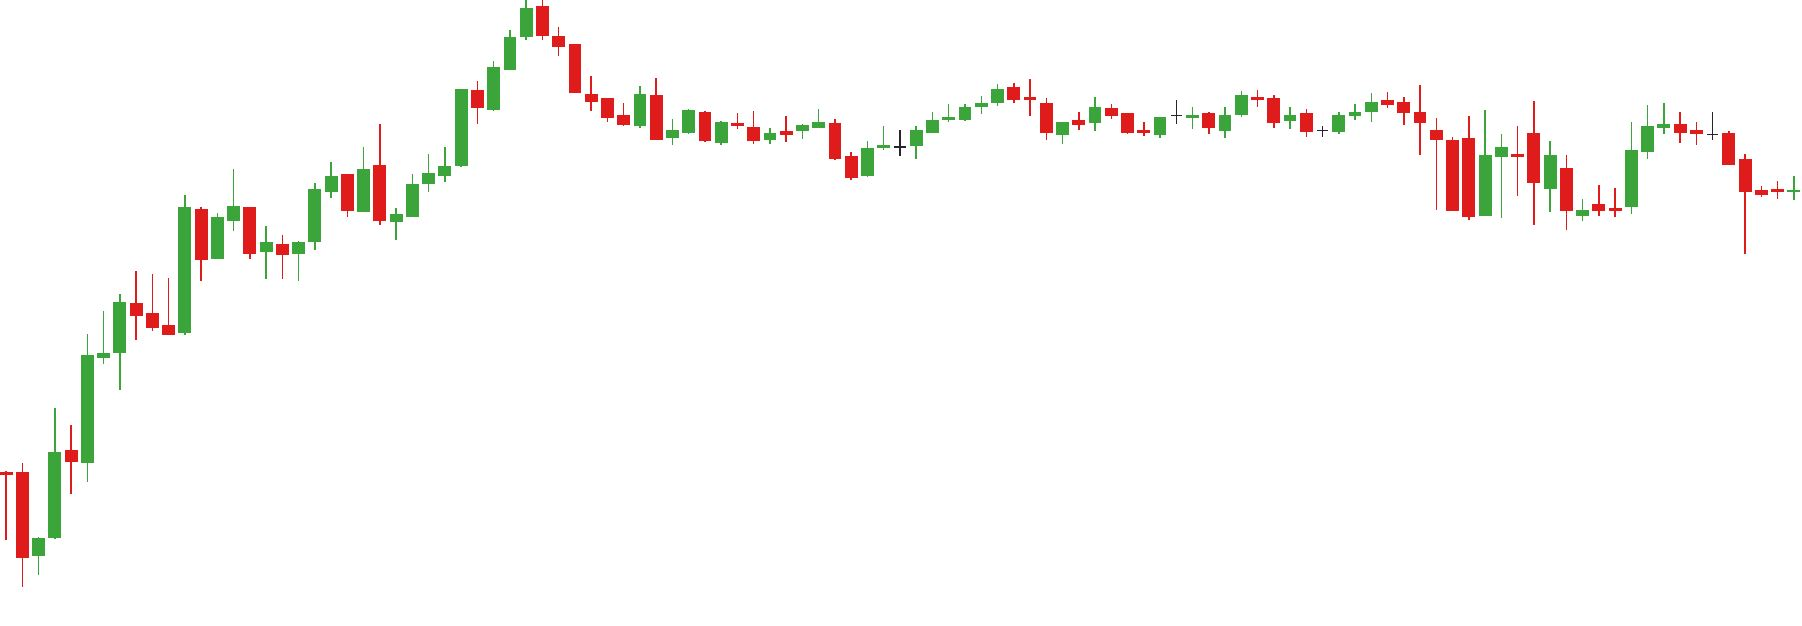buy: (191, 204, 292, 288)
